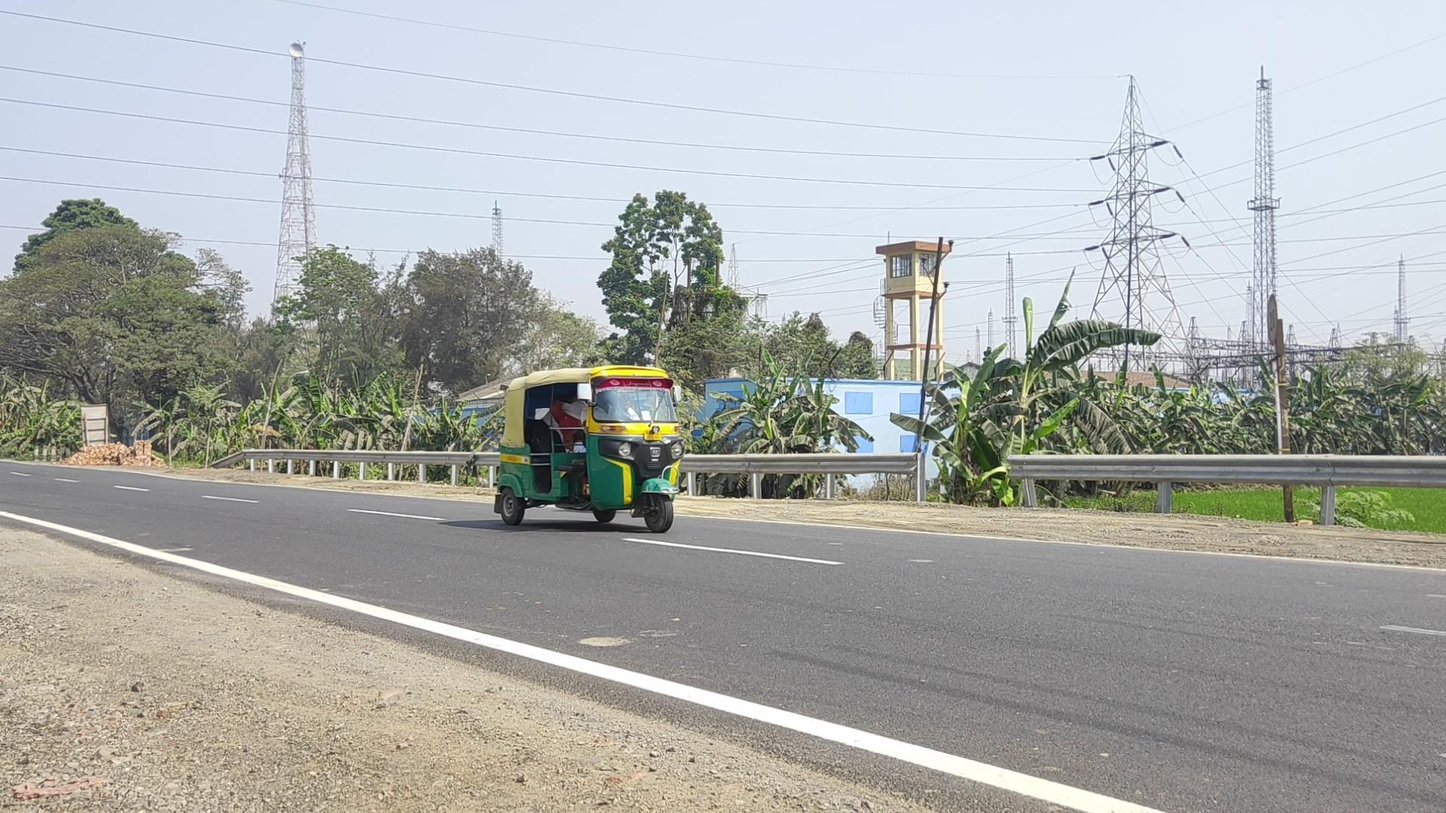Auto: (494, 364, 685, 534)
